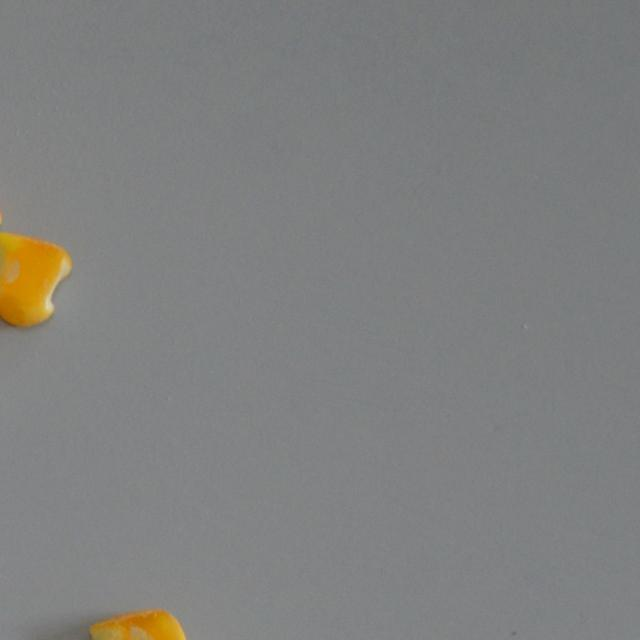dañado: (0, 228, 73, 331), (82, 608, 194, 640)
